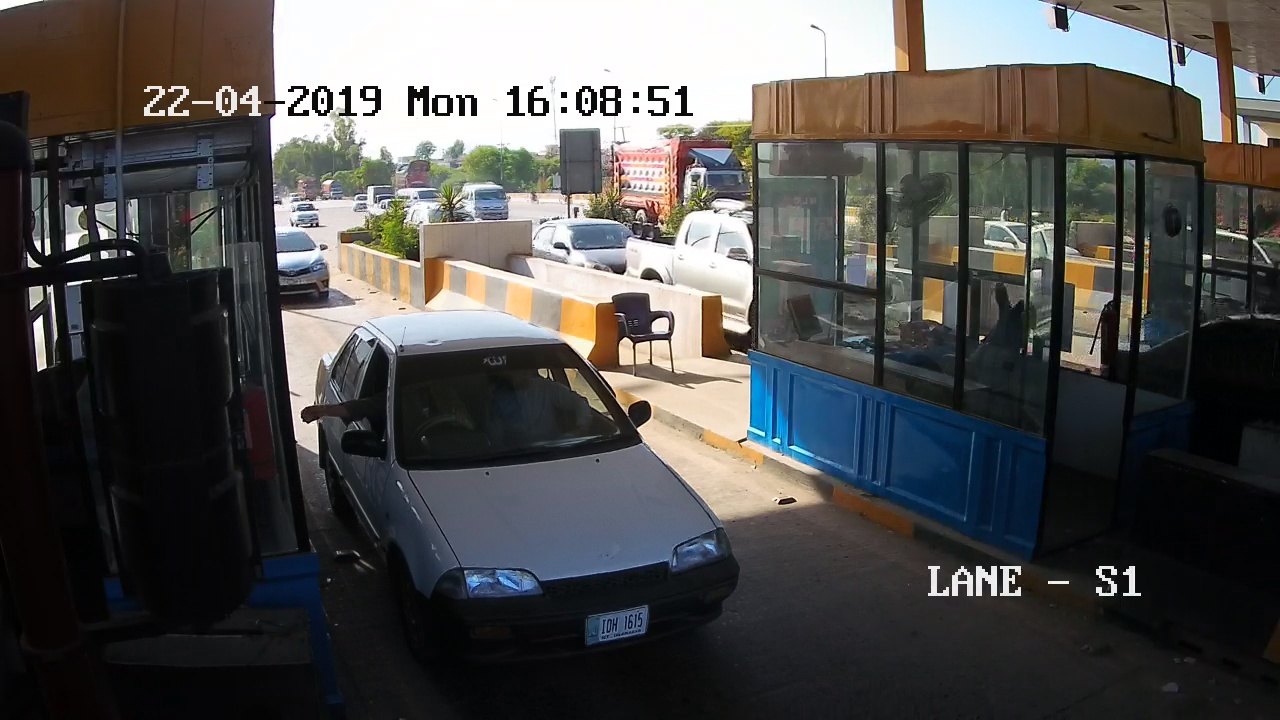Number Plate (Car): (584, 606, 648, 640)
